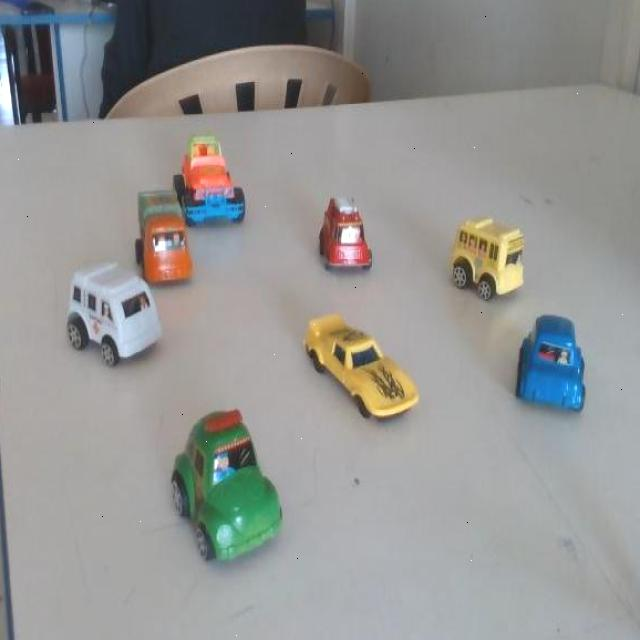car: (163, 413, 283, 558), (64, 253, 163, 375), (302, 316, 414, 418), (179, 129, 256, 226), (515, 315, 590, 412), (443, 216, 521, 307), (132, 182, 195, 293), (308, 191, 374, 286)
